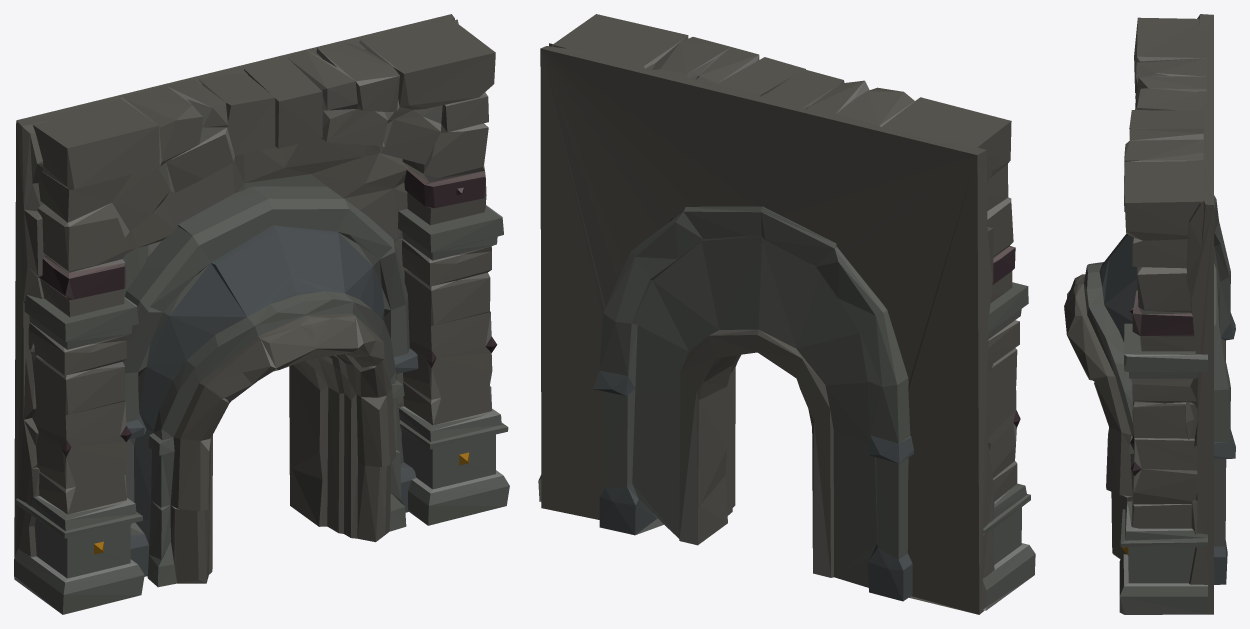
Rendered from MDungeons_Walls_Door_02.FBX.
3 views of the same model, side by side, from view 1: azimuth 30°, elevation 25°; view 2: azimuth 150°, elevation 25°; view 3: azimuth 270°, elevation 25° (orthographic). The views are drawn at different scales.
Visible parts, largest first — view 1: MDungeons_Walls_Door_02_LOD0; view 2: MDungeons_Walls_Door_02_LOD0; view 3: MDungeons_Walls_Door_02_LOD0.
Boxes of the visible parts, x1,y1,x2,y2 form: MDungeons_Walls_Door_02_LOD0: (14,14,509,614); MDungeons_Walls_Door_02_LOD0: (538,14,1035,614); MDungeons_Walls_Door_02_LOD0: (1064,14,1235,614).
Size of what is drawn, in the model's own units: 6.16 by 6.11 by 2.29.
